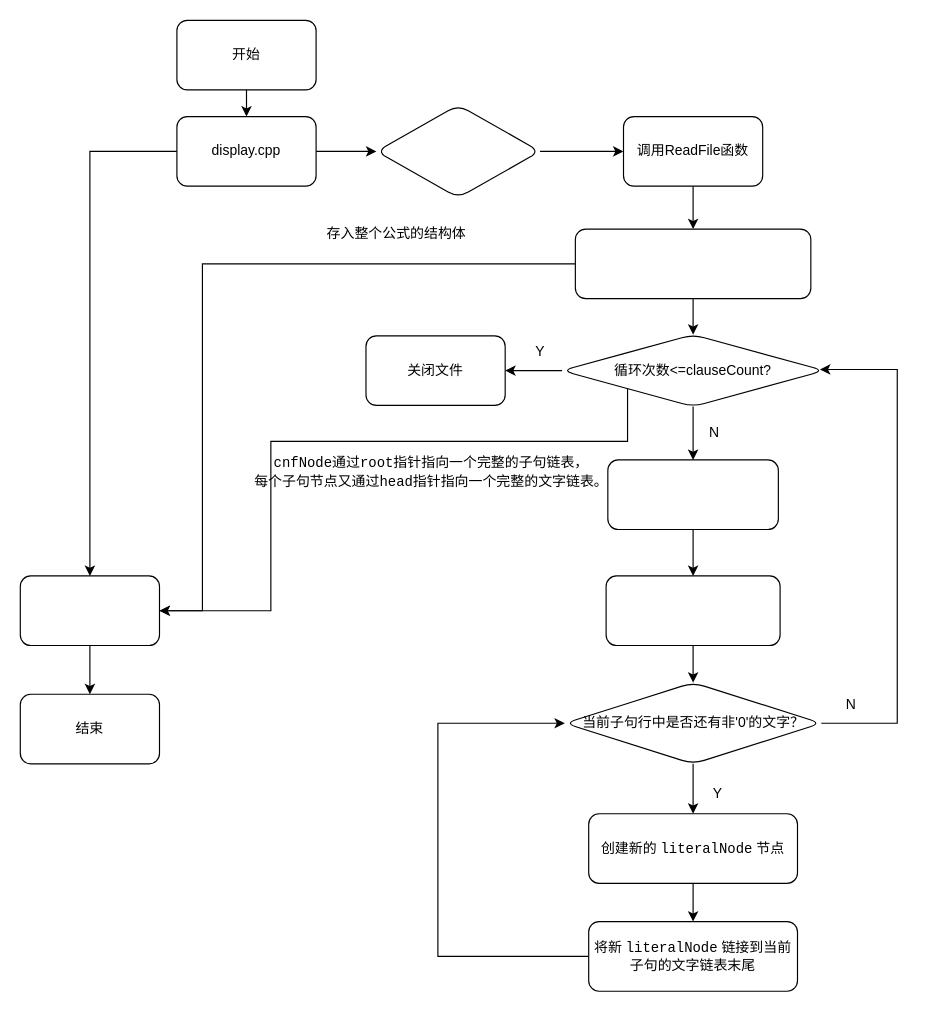
This 927x1012 diagram has some shape labels left out. Each missing label, with the centre of its shape:
"Display函数创建cnfNode根对象" goes at point 89,610.
"从.cnf读取变量总数和子句总数" goes at point 692,263.
"创建新的 clauseNode 节点" goes at point 692,494.
"将新 clauseNode 链接到主子句链表末尾" goes at point 692,610.
"用户选择读取文件操作" goes at point 457,151.
